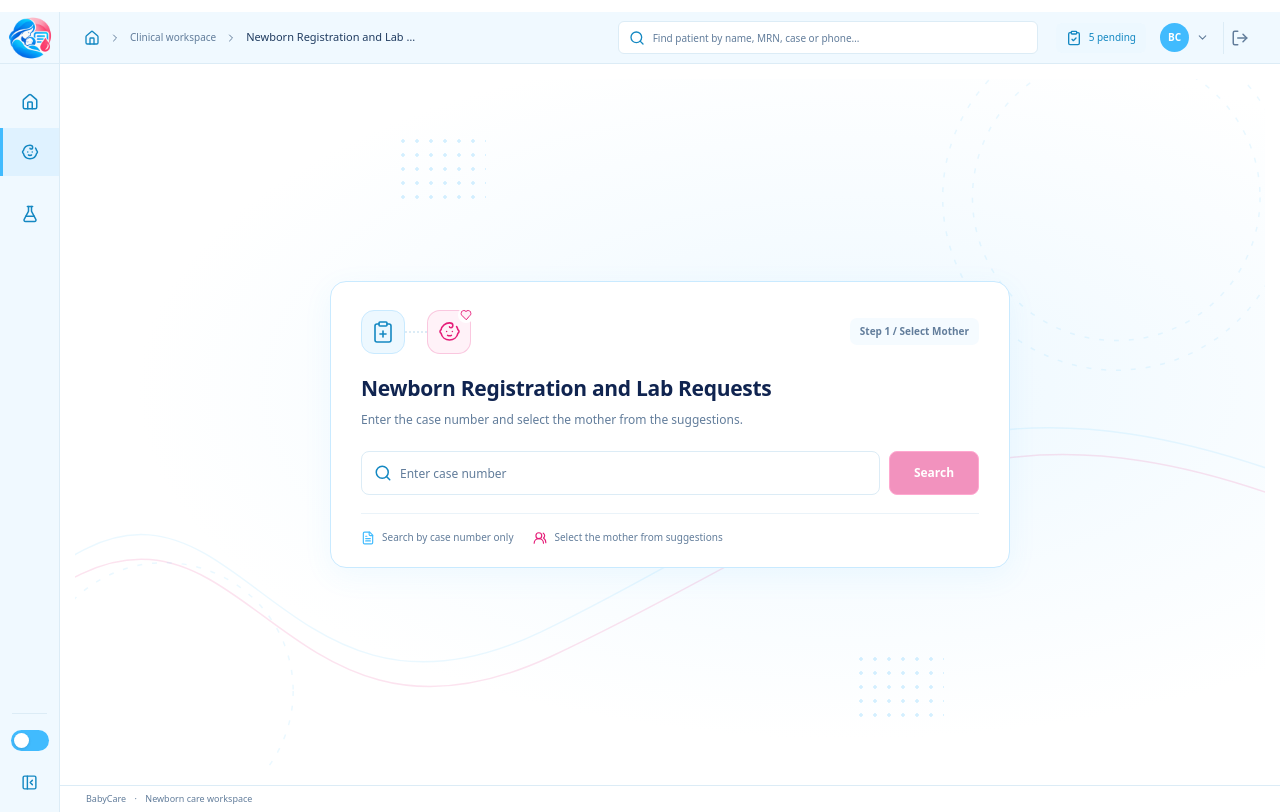
Test case: searches by case only, hides search, and resets when changing mother
The width and height of the screenshot is (1280, 812).
Type "Layla" into the dropdown labelled "case number".
click(620, 473); type("Layla")  # box [361,451,880,495]
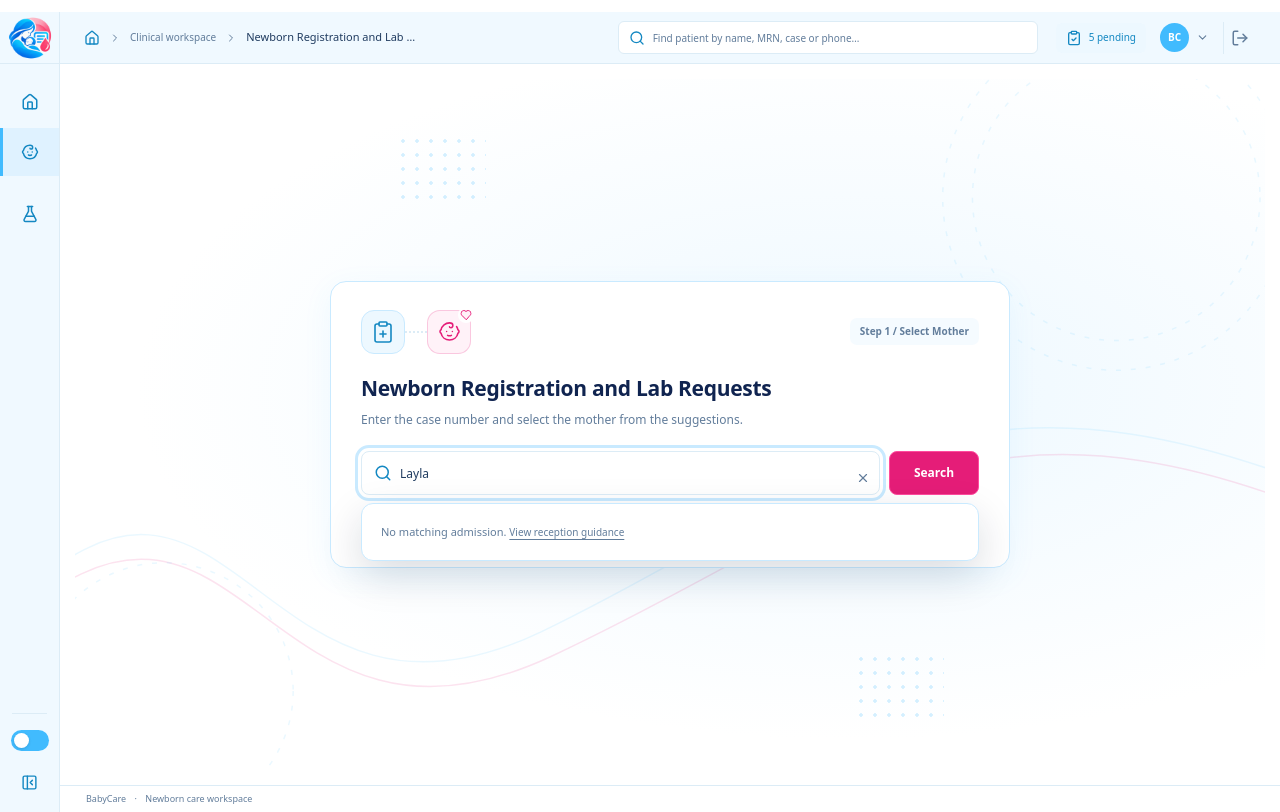
Result: the text "No matching admission. View reception guidance" is shown at [381,524,624,541]
Replace the text in the dropdown named "case number" with "CASE-2026-00127" at (620, 473), box [361,451,880,495]
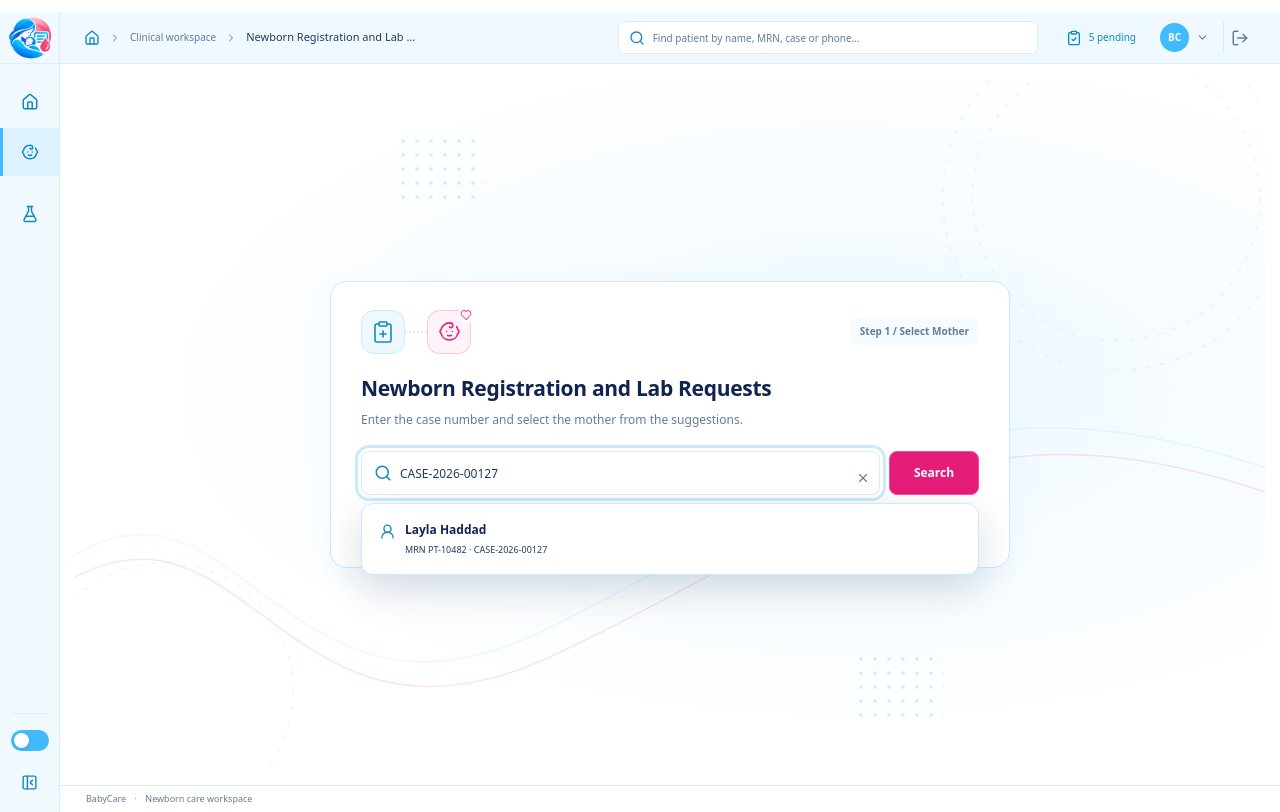
Click the option "Layla Haddad MRN PT-10482 · CASE-2026-00127".
click(463, 539)  # box [379,521,547,556]
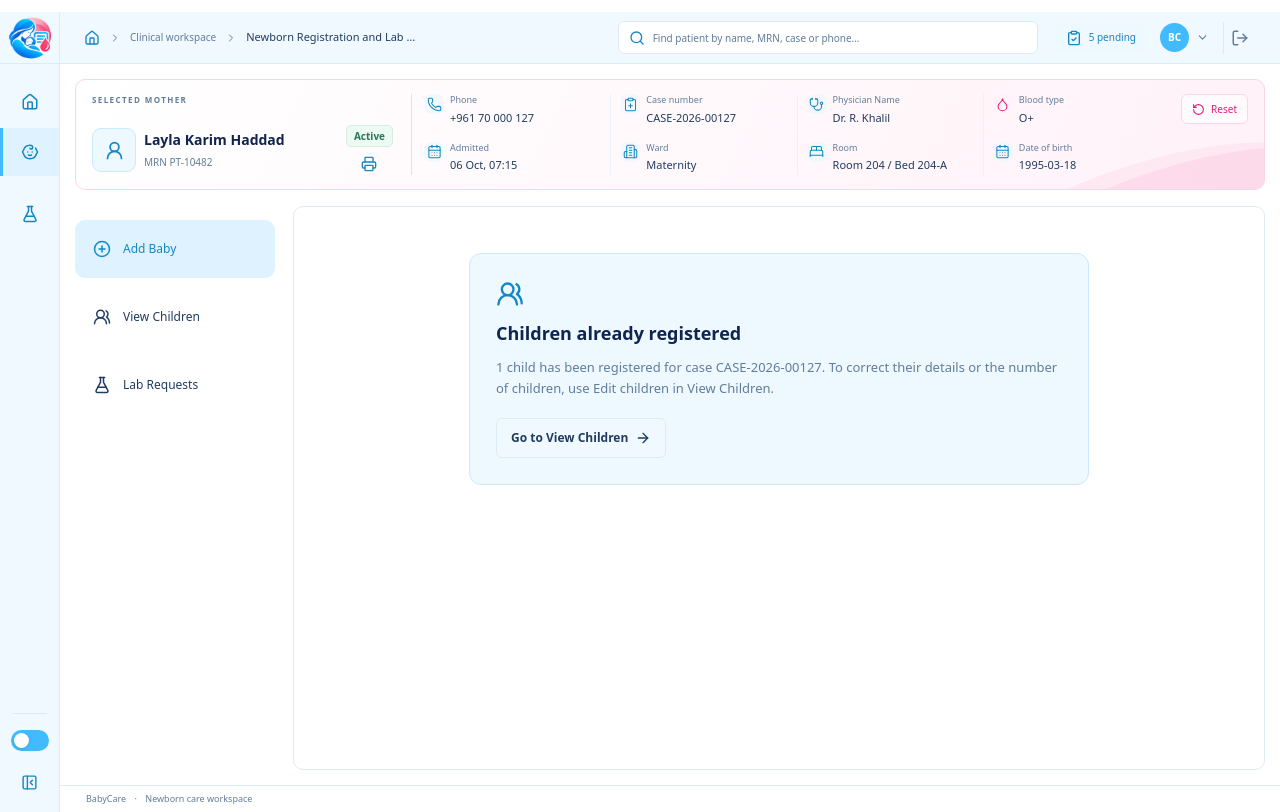
Result: the text "Room 204 / Bed 204-A" is shown at [832,157,947,173]
Click the button with aria-label "Change Mother".
click(1215, 109)  # box [1181,94,1248,124]
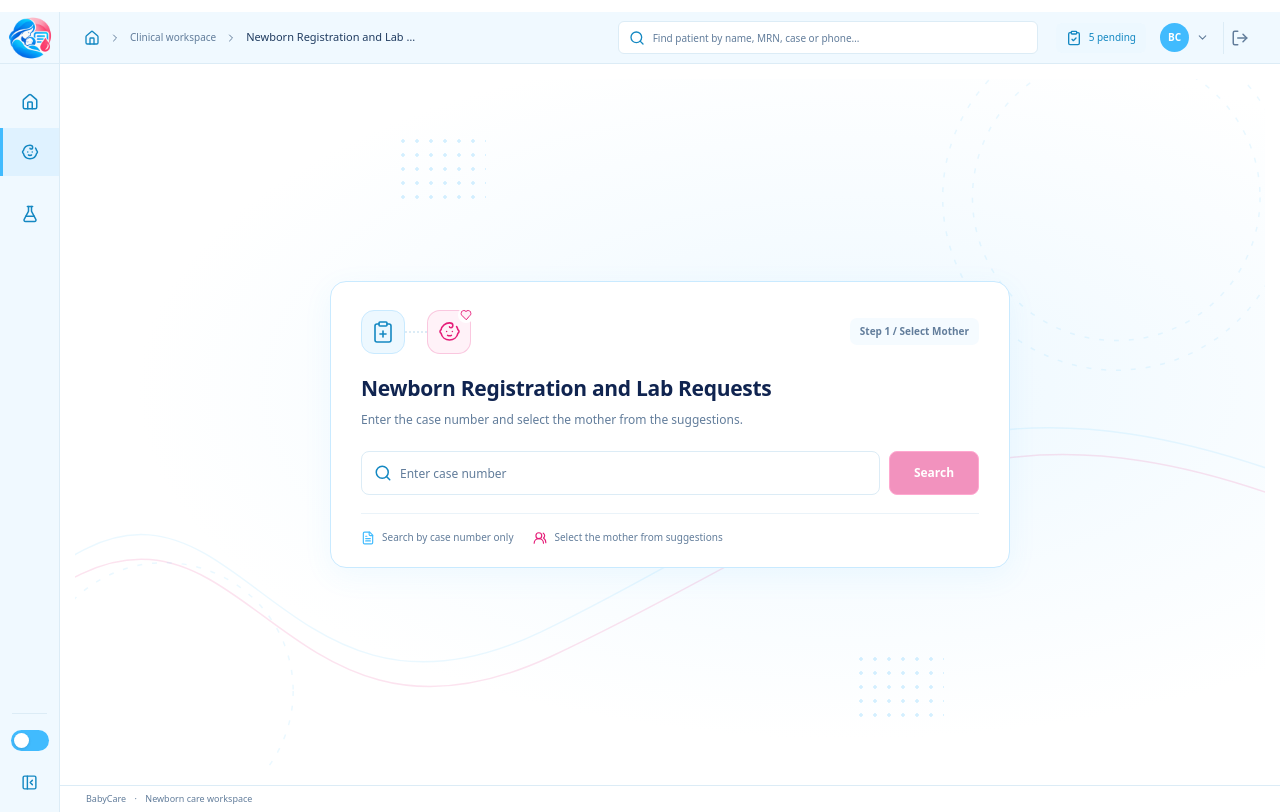
Result: the dropdown labelled "case number" is empty at [361,451,880,495]
